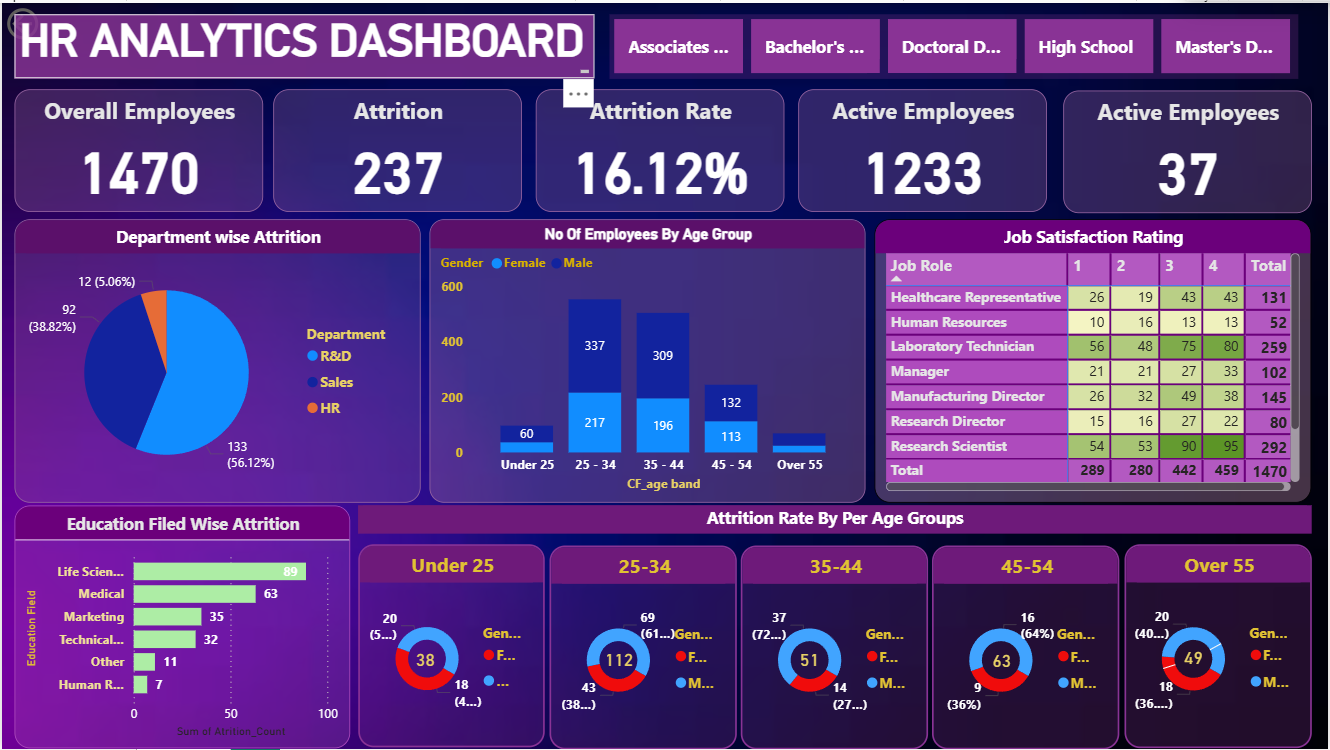

The dashboard page shown, as its layout file describes it:
{"tool":"powerbi","page":{"name":"Page 1","canvas":[1280,720],"ordinal":0},"visuals":[{"type":"card","title":"Overall Employees","fields":{"Values":["Sum(HR data.Employee Count)"]},"box":[11.5,82.7,240,118.6],"z":0},{"type":"card","title":"Attrition","fields":{"Values":["Sum(HR data.Atrition_Count)"]},"box":[261.5,82.7,240,118.6],"z":1000},{"type":"card","title":"Attrition Rate","fields":{"Values":["HR data.Attrition Rate"]},"box":[515.8,82.7,240,118.6],"z":2000},{"type":"card","title":"Active Employees","fields":{"Values":["HR data.Active Employees"]},"box":[768.6,82.7,240,118.6],"z":3000},{"type":"card","title":"Active Employees","fields":{"Values":["Avg(HR data.Age)"]},"box":[1024.3,84.1,240,118.6],"z":4000},{"type":"pieChart","title":"Department wise Attrition","fields":{"Category":["HR data.Department"],"Y":["Sum(HR data.Atrition_Count)"]},"box":[11.6,208.5,392.1,273.9],"z":5000},{"type":"columnChart","title":"No Of Employees By Age Group","fields":{"Y":["Sum(HR data.Employee Count)"],"Category":["HR data.CF_age band"],"Series":["HR data.Gender"]},"box":[412.2,208.5,421,273.9],"z":6000},{"type":"pivotTable","title":"Job Satisfaction Rating","fields":{"Rows":["HR data.Job Role"],"Columns":["HR data.Job Satisfaction"],"Values":["Sum(HR data.Employee Count)"]},"box":[842.4,208.3,421.4,273.8],"z":7000},{"type":"barChart","title":"Education Filed Wise Attrition","fields":{"Category":["HR data.Education Field"],"Y":["Sum(HR data.Atrition_Count)"]},"box":[12.4,485.1,323.8,234.5],"z":8000},{"type":"donutChart","title":"Under 25","fields":{"Category":["HR data.Gender"],"Y":["Sum(HR data.Atrition_Count)"],"Series":["HR data.CF_age band"]},"box":[343.2,523,179.7,195.9],"z":9000},{"type":"textbox","title":"Attrition Rate By Per Age Groups","box":[343.2,485.1,920.3,27],"z":10000},{"type":"donutChart","title":"25-34","fields":{"Category":["HR data.Gender"],"Y":["Sum(HR data.Atrition_Count)"],"Series":["HR data.CF_age band"]},"box":[527.8,523.2,181,196.4],"z":11000},{"type":"donutChart","title":"35-44","fields":{"Category":["HR data.Gender"],"Y":["Sum(HR data.Atrition_Count)"],"Series":["HR data.CF_age band"]},"box":[713.5,523.2,181,196.4],"z":12000},{"type":"donutChart","title":"45-54","fields":{"Category":["HR data.Gender"],"Y":["Sum(HR data.Atrition_Count)"],"Series":["HR data.CF_age band"]},"box":[898.1,523.2,181,196.4],"z":13000},{"type":"donutChart","title":"Over 55","fields":{"Category":["HR data.Gender"],"Y":["Sum(HR data.Atrition_Count)"],"Series":["HR data.CF_age band"]},"box":[1083.8,522,181,196.4],"z":14000},{"type":"card","fields":{"Values":["Sum(HR data.Atrition_Count)"]},"box":[393.2,620.3,31.1,27],"z":15000},{"type":"actionButton","box":[0,0,100,40],"z":16000},{"type":"card","fields":{"Values":["Sum(HR data.Atrition_Count)"]},"box":[575.7,620.3,40.5,28.4],"z":17000},{"type":"card","fields":{"Values":["Sum(HR data.Atrition_Count)"]},"box":[763.5,620.3,31.1,29.7],"z":18000},{"type":"card","fields":{"Values":["Sum(HR data.Atrition_Count)"]},"box":[950,621.6,31.1,27],"z":19000},{"type":"card","fields":{"Values":["Sum(HR data.Atrition_Count)"]},"box":[1135.1,617.6,29.7,29.7],"z":20000},{"type":"textbox","title":"HR ANALYTICS DASHBOARD","box":[12.2,10.8,559.5,62.2],"z":21000},{"type":"advancedSlicerVisual","fields":{"Values":["HR data.Education"]},"box":[586.5,10.8,664.9,62.2],"z":22000}]}

Visuals, with their boxes in screenshot pixels (x1, y1, x2, y2), scaled from the page's 1280x720 canvas onto the 1330x750 screenshot:
"Overall Employees" card: detection(12, 86, 261, 210)
"Attrition" card: detection(272, 86, 521, 210)
"Attrition Rate" card: detection(536, 86, 785, 210)
"Active Employees" card: detection(799, 86, 1048, 210)
"Active Employees" card: detection(1064, 88, 1314, 211)
"Department wise Attrition" pieChart: detection(12, 217, 419, 502)
"No Of Employees By Age Group" columnChart: detection(428, 217, 866, 502)
"Job Satisfaction Rating" pivotTable: detection(875, 217, 1313, 502)
"Education Filed Wise Attrition" barChart: detection(13, 505, 349, 749)
"Under 25" donutChart: detection(357, 545, 543, 749)
"Attrition Rate By Per Age Groups" textbox: detection(357, 505, 1313, 533)
"25-34" donutChart: detection(548, 545, 736, 749)
"35-44" donutChart: detection(741, 545, 929, 749)
"45-54" donutChart: detection(933, 545, 1121, 749)
"Over 55" donutChart: detection(1126, 544, 1314, 748)
card - Sum(HR data.Atrition_Count): detection(409, 646, 441, 674)
actionButton: detection(0, 0, 104, 42)
card - Sum(HR data.Atrition_Count): detection(598, 646, 640, 676)
card - Sum(HR data.Atrition_Count): detection(793, 646, 826, 677)
card - Sum(HR data.Atrition_Count): detection(987, 648, 1019, 676)
card - Sum(HR data.Atrition_Count): detection(1179, 643, 1210, 674)
"HR ANALYTICS DASHBOARD" textbox: detection(13, 11, 594, 76)
advancedSlicerVisual - HR data.Education: detection(609, 11, 1300, 76)
